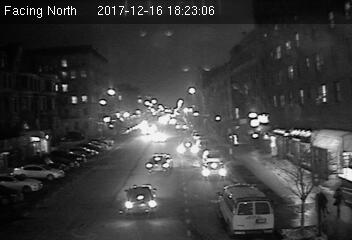car: (122, 182, 161, 216), (145, 152, 173, 176), (201, 160, 229, 181)
police: (218, 182, 275, 234)
